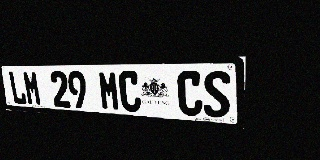2: (50, 71, 71, 108)
9: (67, 71, 88, 109)
C: (177, 71, 203, 116), (118, 71, 142, 112)
L: (8, 71, 27, 105)
M: (98, 71, 121, 111), (22, 71, 42, 106)
S: (203, 71, 230, 118)
